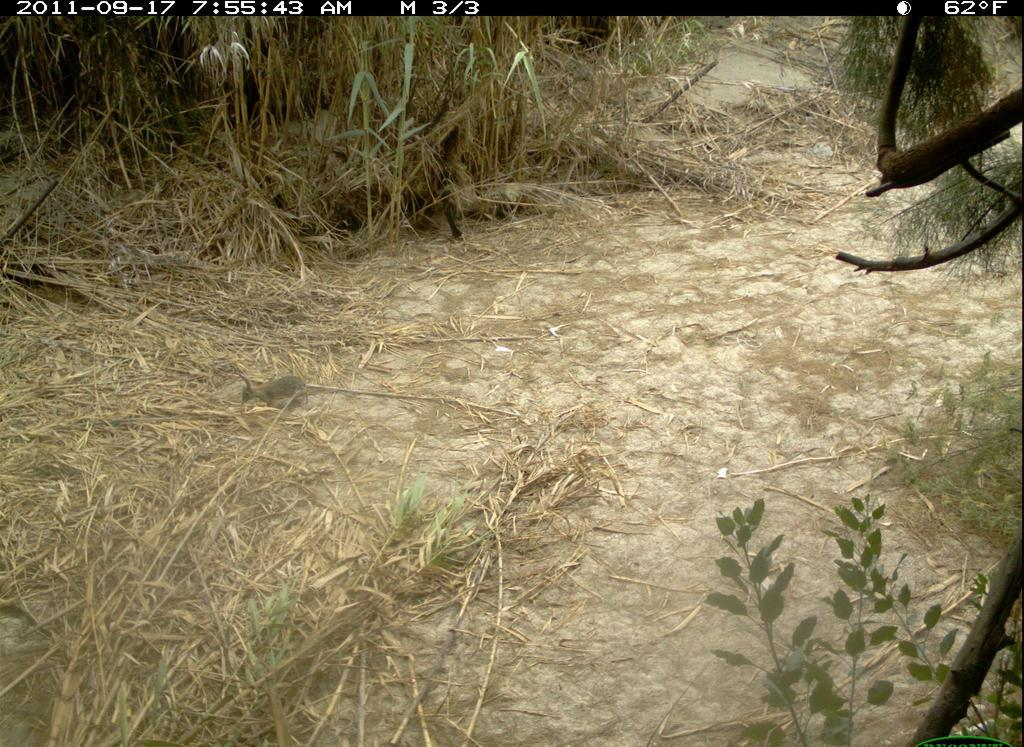rabbit: (235, 372, 314, 415)
